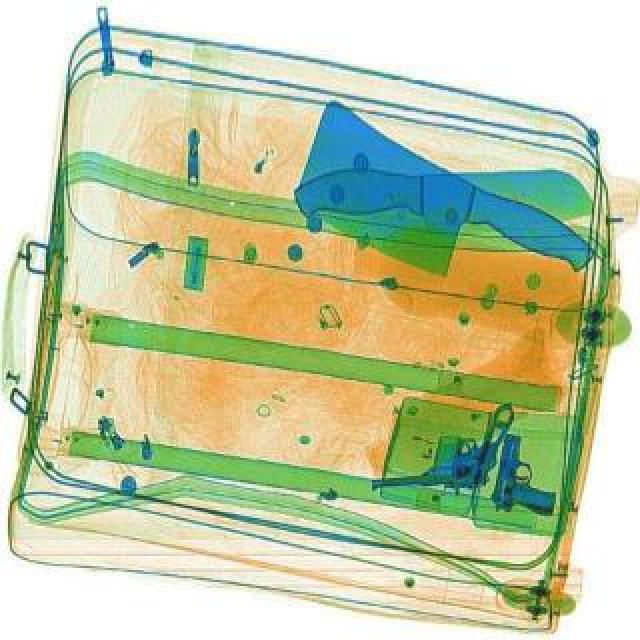gun: (358, 398, 550, 530), (482, 430, 574, 520)
knife: (268, 88, 604, 346)
